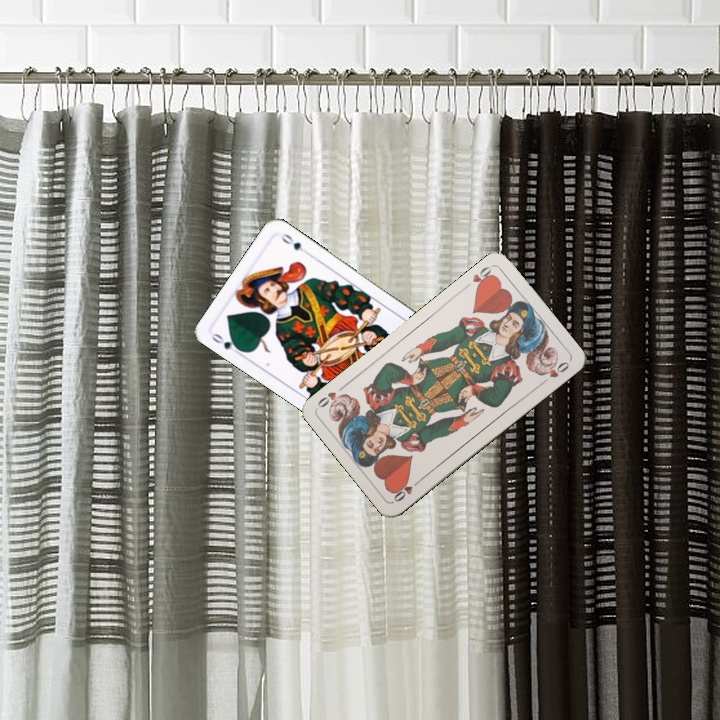GO: (207, 329, 245, 358)
HO: (390, 475, 424, 504), (469, 261, 497, 293)
